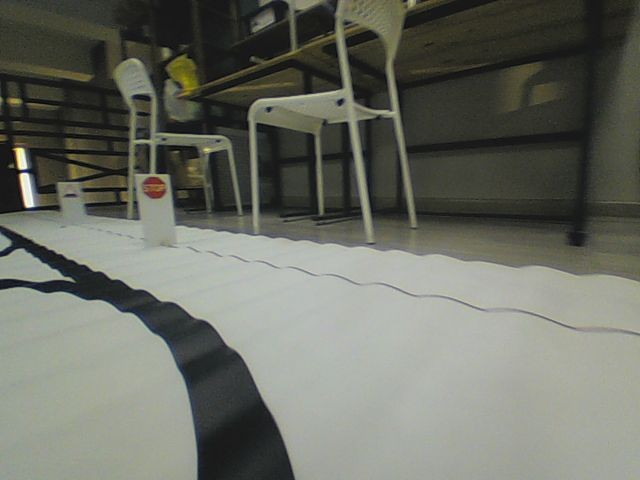Stop: (141, 175, 167, 200)
